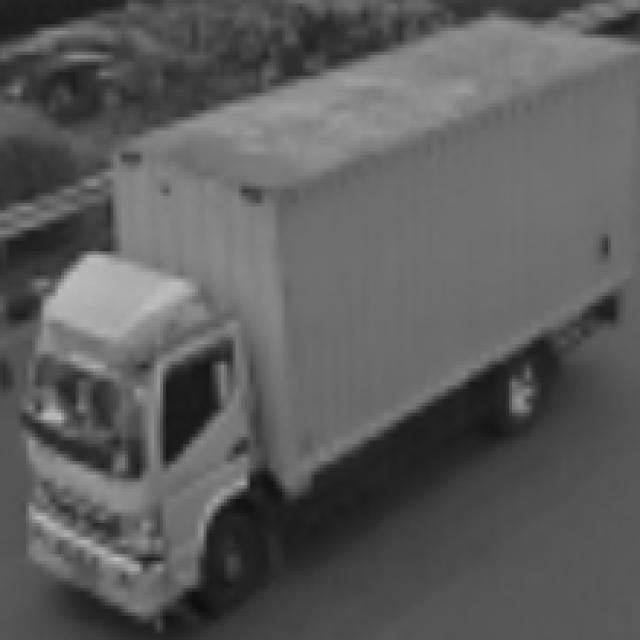truck: (1, 237, 285, 633)
